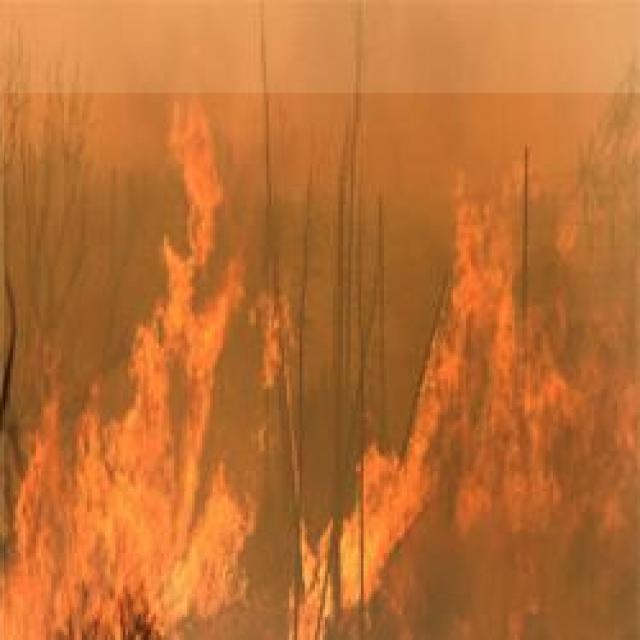Fire: (4, 93, 640, 640)
